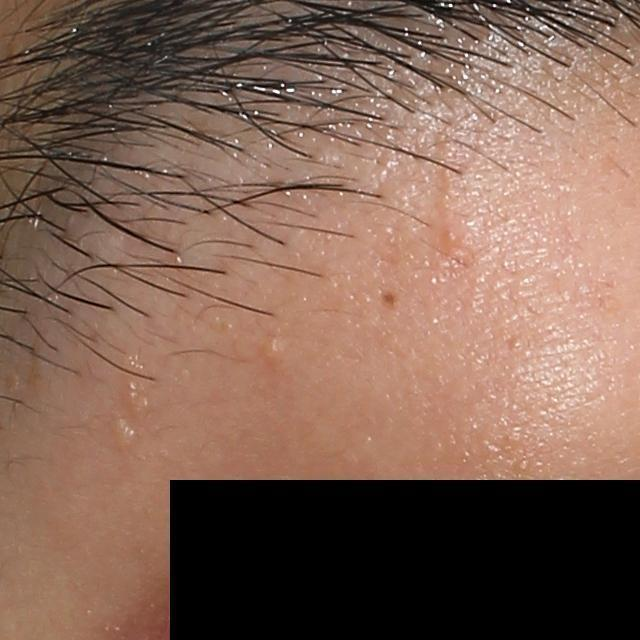comedo: (260, 340, 287, 368)
nevus: (380, 288, 399, 309)
other: (107, 415, 135, 450)
